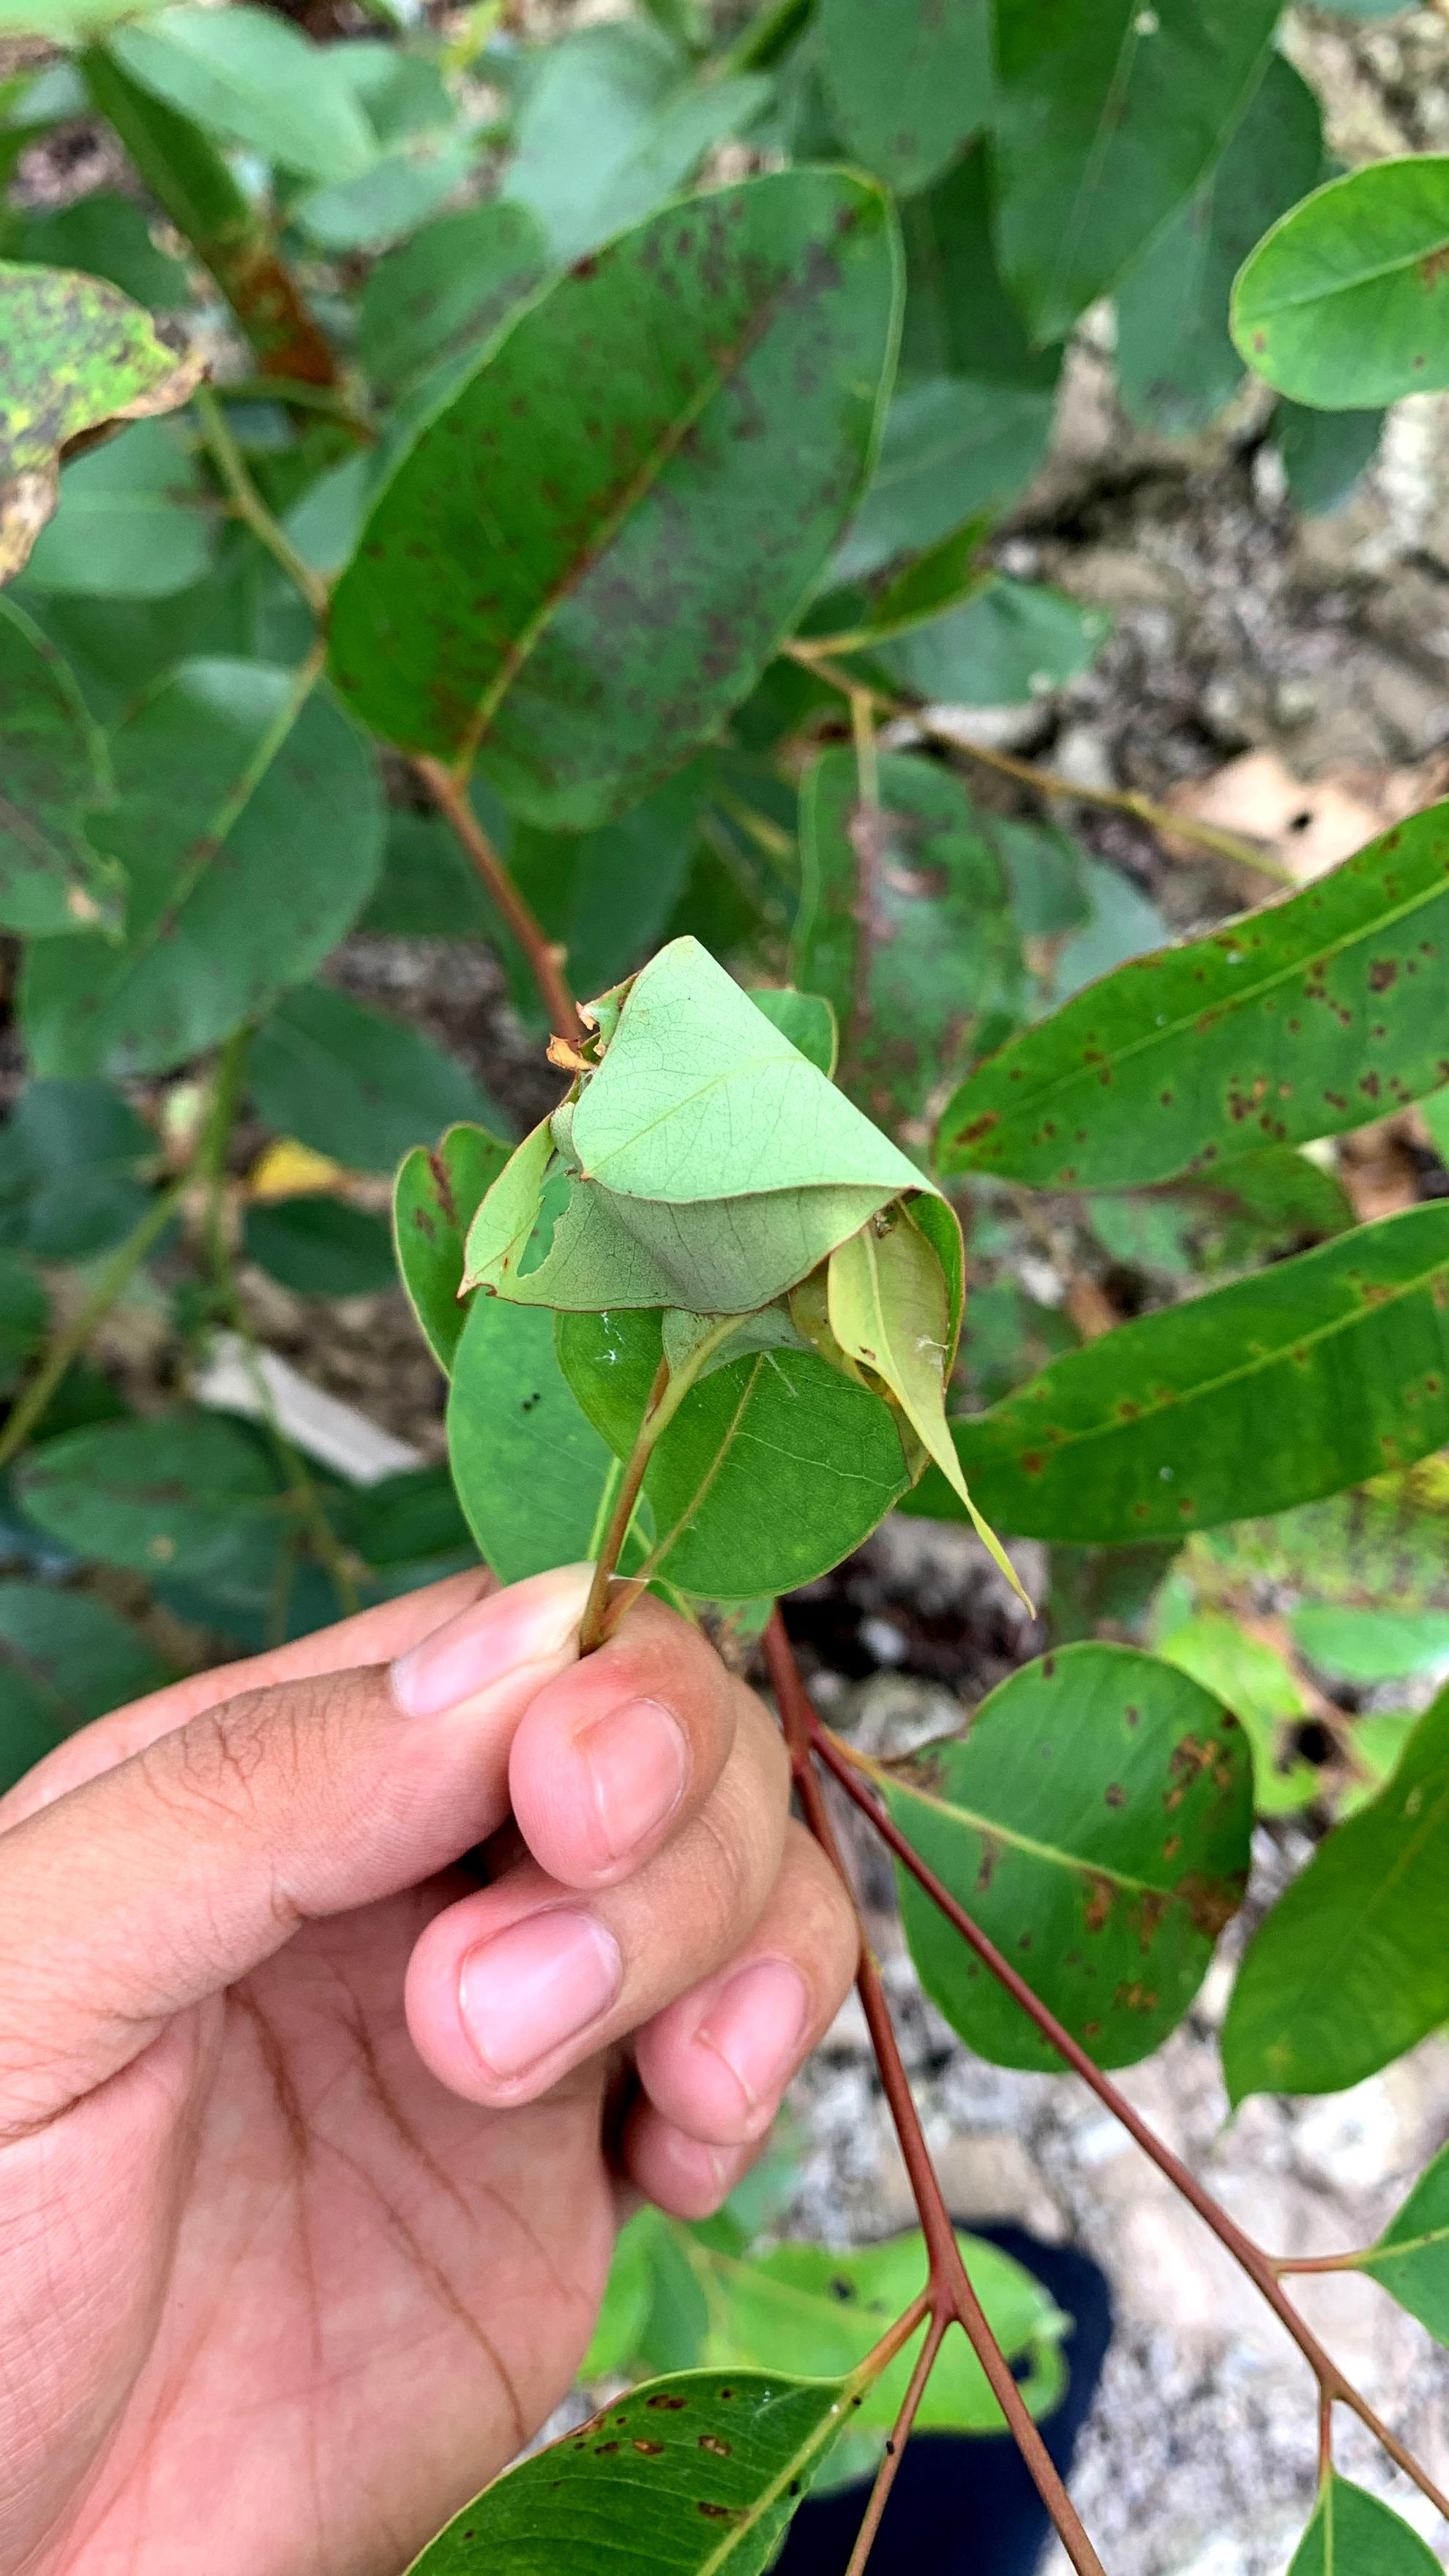Leaf Roller - Leaf: (502, 911, 948, 1642)
